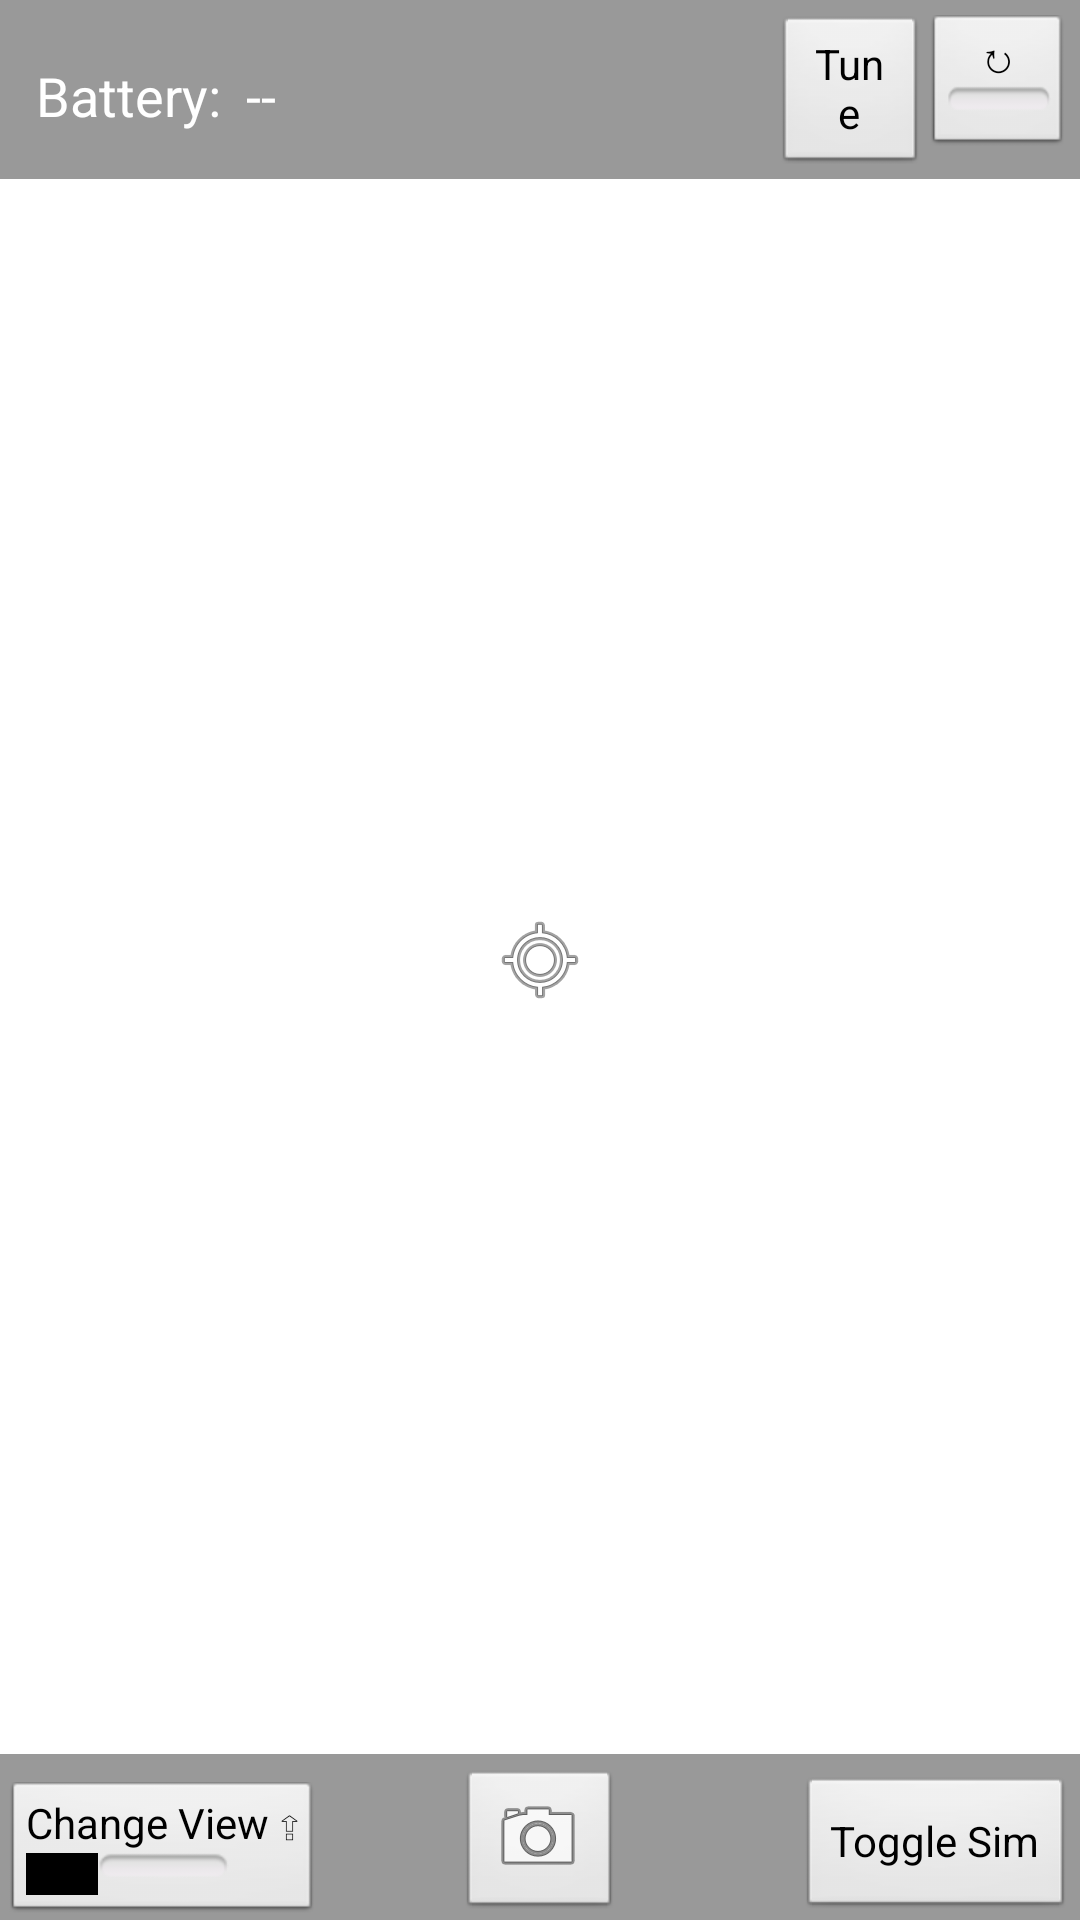

Locate icon controls on the screen. Image size 1080px×1920px, boxes as (x1, y1, x2, y2).
camera: (467, 1773, 611, 1906)
mylocation: (502, 922, 578, 998)
